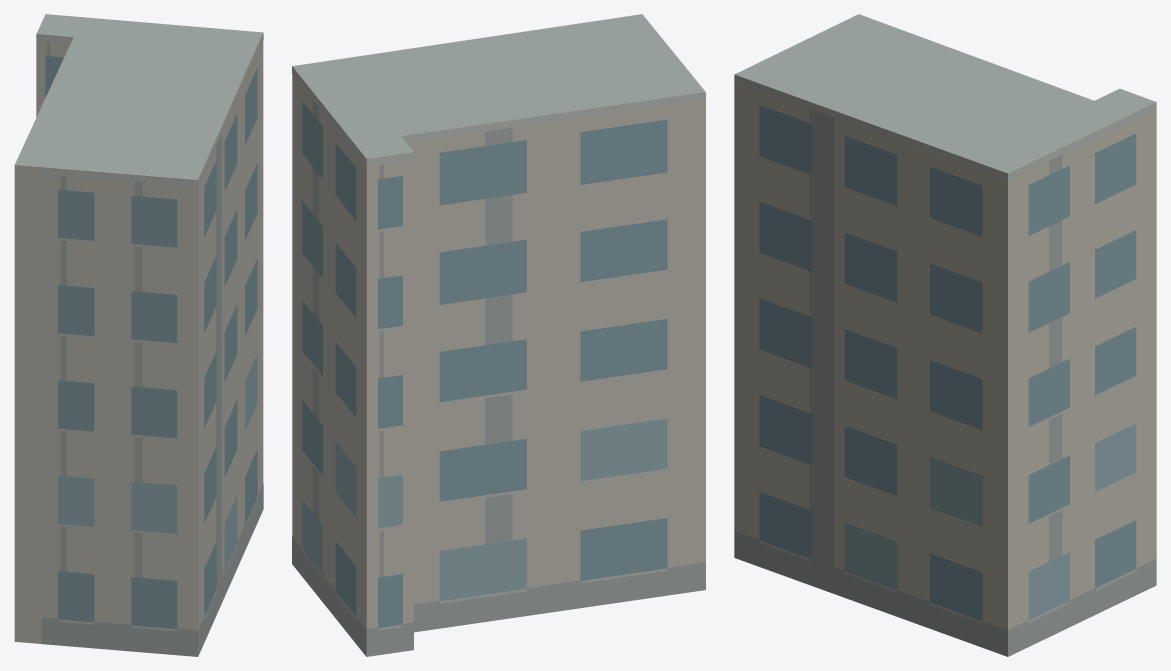
The model's file is survey-upis-32642060.glb.
3 views of the same model, side by side, from view 1: azimuth 30°, elevation 25°; view 2: azimuth 150°, elevation 25°; view 3: azimuth 270°, elevation 25° (orthographic). The views are drawn at different scales.
Parts seen in each view (by area): view 1: survey-upis-32642060.tmp; view 2: survey-upis-32642060.tmp; view 3: survey-upis-32642060.tmp.
Boxes of the visible parts, <box> form: survey-upis-32642060.tmp: <box>14,14,263,656</box>; survey-upis-32642060.tmp: <box>292,14,705,656</box>; survey-upis-32642060.tmp: <box>734,14,1156,656</box>.
Size of the model in its own units: 11.26 by 15.9 by 12.59.
